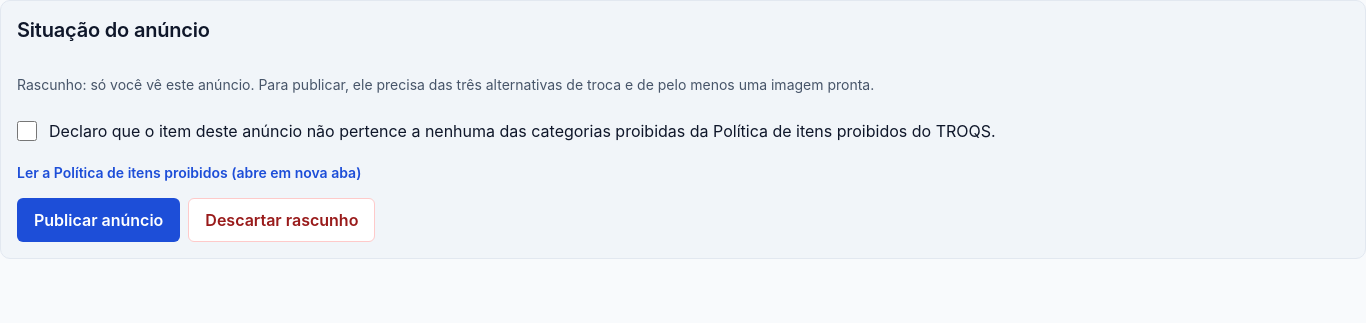
Test case: LifecyclePanel › publica enviando o aceite marcado e atualiza a pagina
Click the checkbox named "Declaro que o item deste anúncio não pertence a nenhuma das categorias proibidas da Política de itens proibidos do TROQS" at (27, 131), box [17,121,37,141]
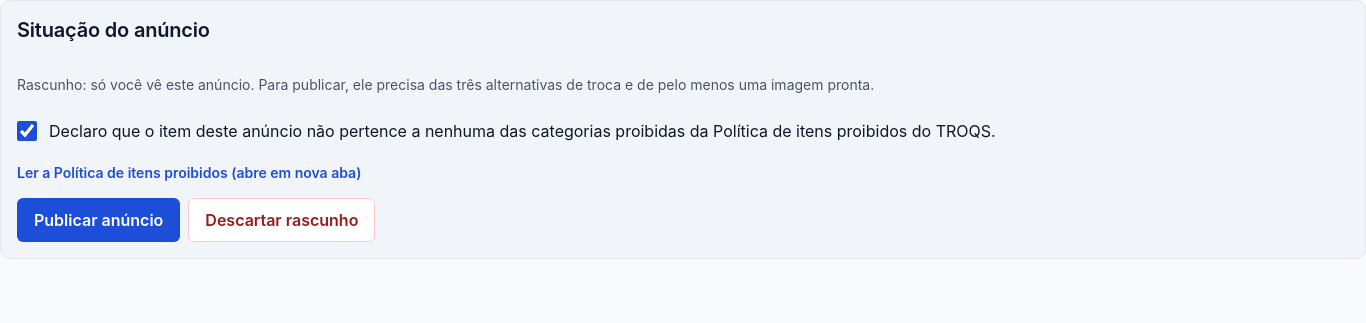
Click the button "Publicar anúncio" at (99, 220), box [17,198,180,242]
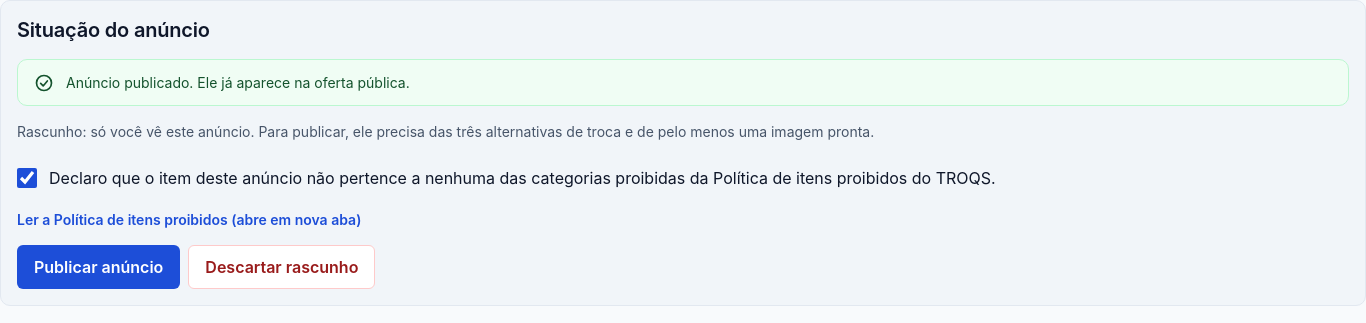
Expected: the message shows "Anúncio publicado", [66,74,410,91]
